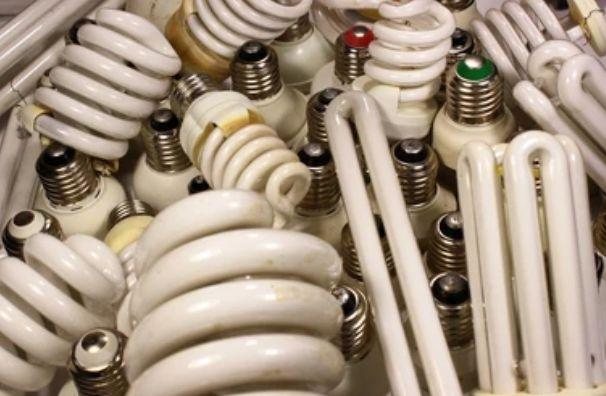light bulb: (116, 187, 358, 393), (323, 88, 471, 391), (454, 133, 604, 393), (474, 2, 606, 202), (30, 7, 181, 168), (0, 219, 126, 387), (179, 88, 314, 219), (130, 188, 279, 280), (168, 0, 314, 79), (363, 0, 454, 91), (90, 7, 181, 67), (518, 0, 606, 61)
